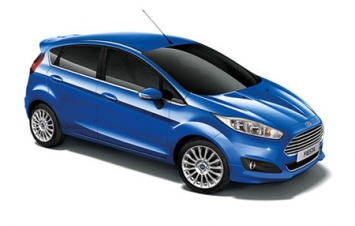sedan: (24, 30, 326, 194)
